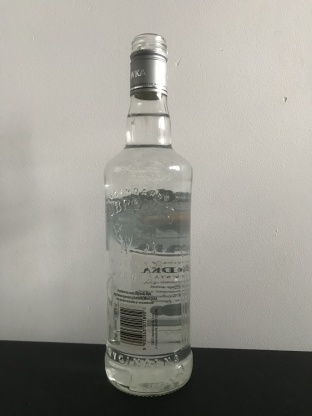nakretka: (127, 30, 170, 102)
